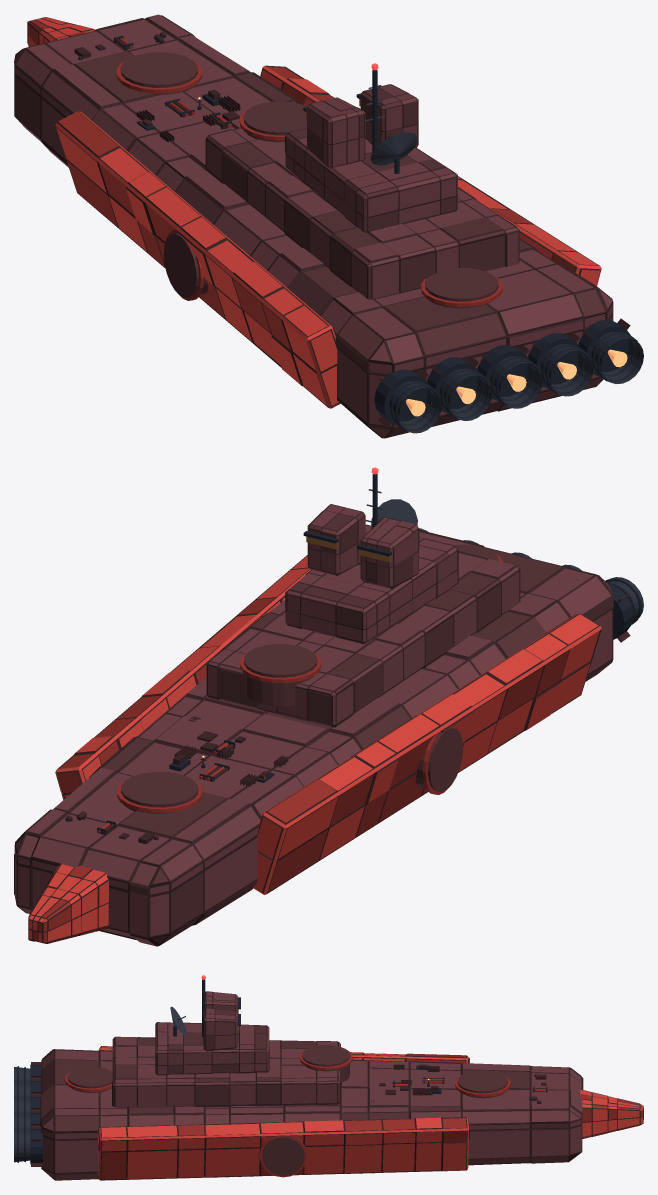
The model's file is behemoth.glb.
The picture shows the model from 3 angles, top to bottom: view 1: azimuth 30°, elevation 25°; view 2: azimuth 150°, elevation 25°; view 3: azimuth 270°, elevation 25°; orthographic projection. The views are drawn at different scales.
Visible parts, largest first — view 1: behemoth_mesh, radar_mesh; view 2: behemoth_mesh, radar_mesh; view 3: behemoth_mesh.
Part boxes in pixels (x1,y1,x2,y2): behemoth_mesh: [14, 14, 643, 438]; radar_mesh: [370, 132, 417, 173]; behemoth_mesh: [14, 474, 643, 946]; radar_mesh: [370, 499, 417, 529]; behemoth_mesh: [14, 979, 643, 1180].
Bounding box in the file's own units: 15.51 × 13.79 × 44.26.
